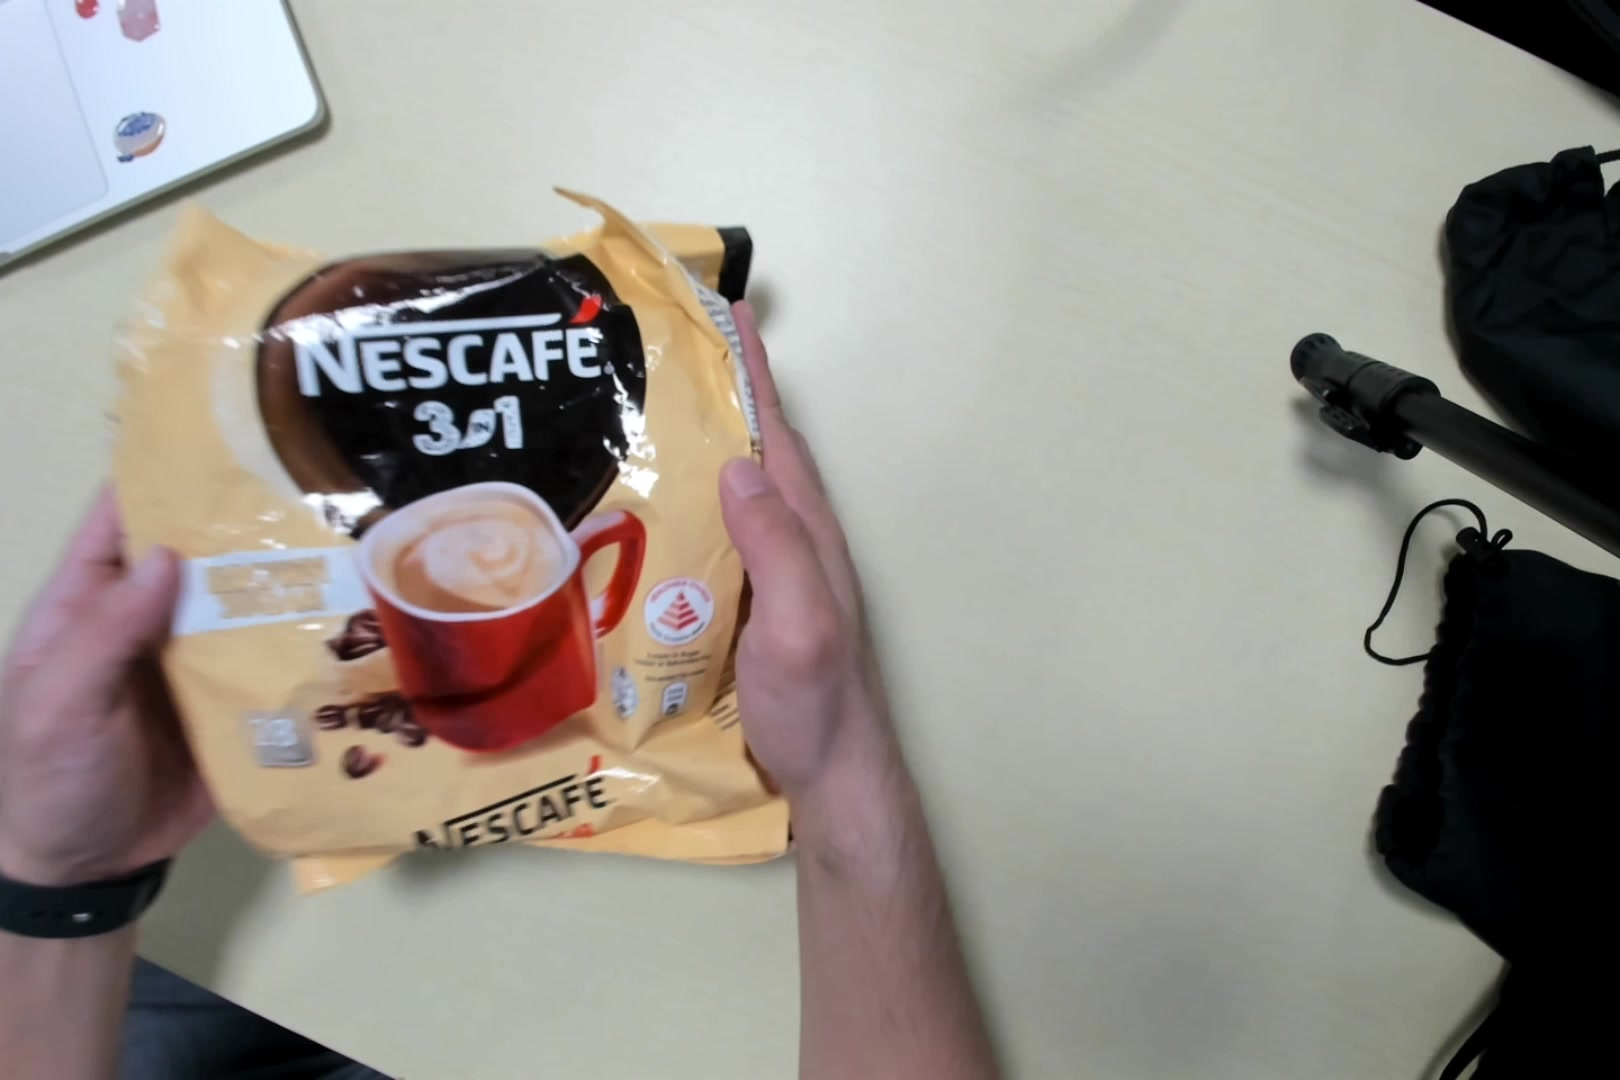Coffee(Powder)_500-599g_Halal_Healthy: (121, 215, 788, 874)
